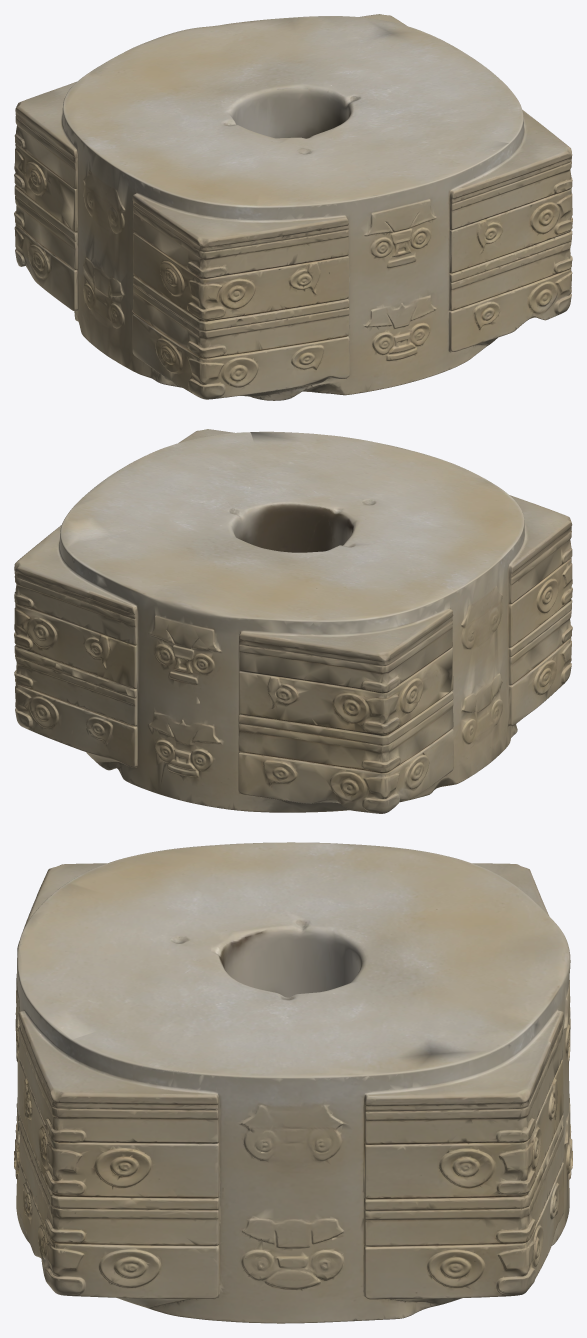
The model's file is liangzhu.glb.
The picture shows the model from 3 angles, top to bottom: view 1: azimuth 30°, elevation 25°; view 2: azimuth 150°, elevation 25°; view 3: azimuth 270°, elevation 25°; orthographic projection. The views are drawn at different scales.
Visible parts, largest first — view 1: node_0; view 2: node_0; view 3: node_0.
Boxes of the visible parts, x1,y1,x2,y2 form: node_0: (14, 14, 572, 400); node_0: (14, 429, 572, 813); node_0: (14, 842, 572, 1323).
Size of the model in its own units: 0.8922 by 0.446 by 0.8884.
Materials: 1 (1 with a texture image).
